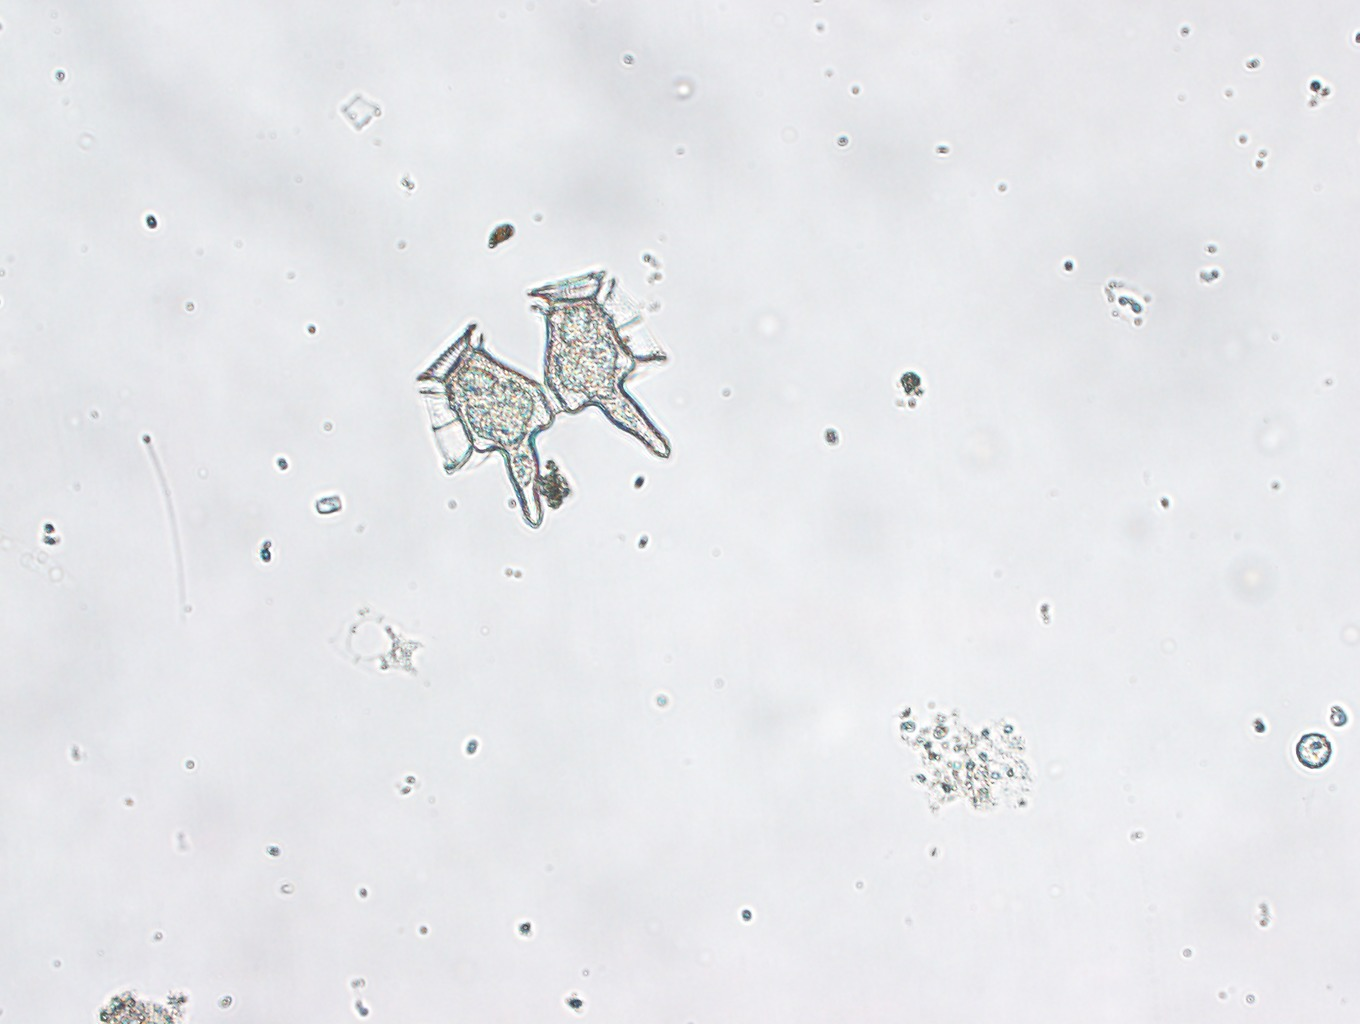dinophysis caudata: (415, 267, 672, 529)
